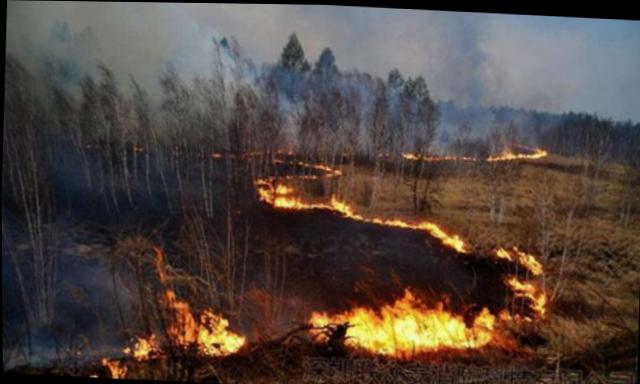fire: (249, 130, 553, 361), (101, 261, 248, 375)
